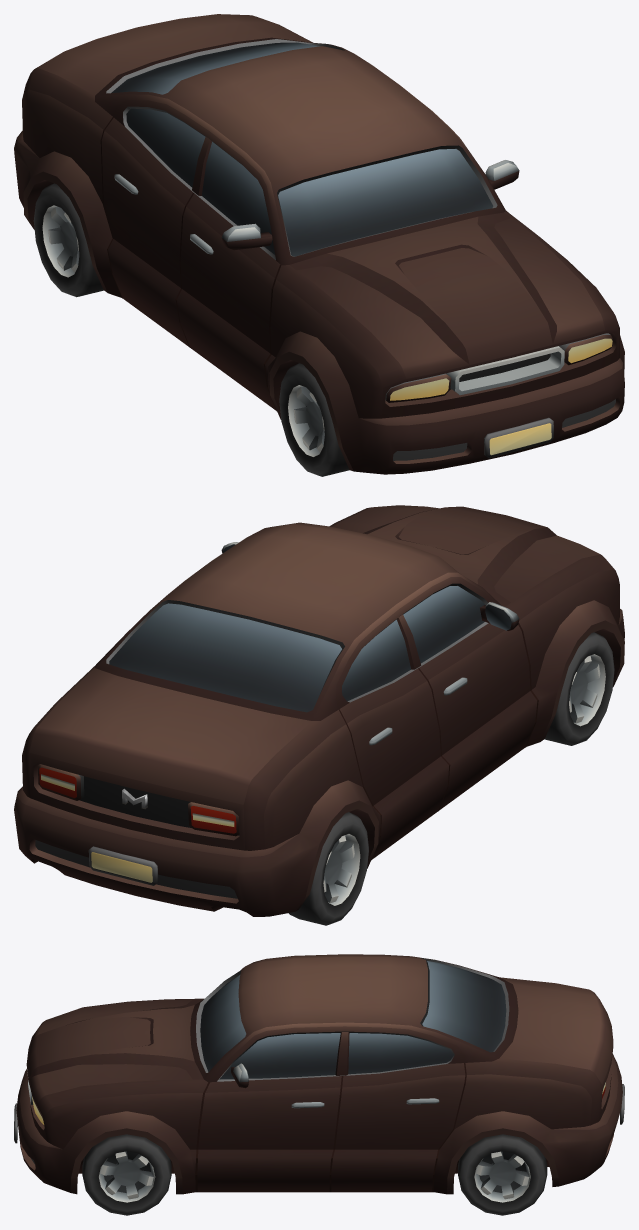
The model's file is Car_6D.fbx.
3 renders of one model, top to bottom at view 1: azimuth 30°, elevation 25°; view 2: azimuth 150°, elevation 25°; view 3: azimuth 270°, elevation 25°, orthographic. The views are drawn at different scales.
Parts seen in each view (by area): view 1: Car_6D, Wheel_6D_F.R, Wheel_6D_R.R; view 2: Car_6D, Wheel_6D_R.R, Wheel_6D_F.R; view 3: Car_6D, Wheel_6D_F.L, Wheel_6D_R.L.
Boxes of the visible parts, <box> form: Car_6D: <box>14,14,624,474</box>; Wheel_6D_F.R: <box>279,363,349,476</box>; Wheel_6D_R.R: <box>33,183,103,297</box>; Car_6D: <box>14,505,624,916</box>; Wheel_6D_R.R: <box>288,812,368,925</box>; Wheel_6D_F.R: <box>544,632,614,745</box>; Car_6D: <box>14,954,624,1194</box>; Wheel_6D_F.L: <box>82,1134,171,1215</box>; Wheel_6D_R.L: <box>458,1134,547,1215</box>.
Size of the model in its own units: 2.46 by 1.93 by 5.8.
